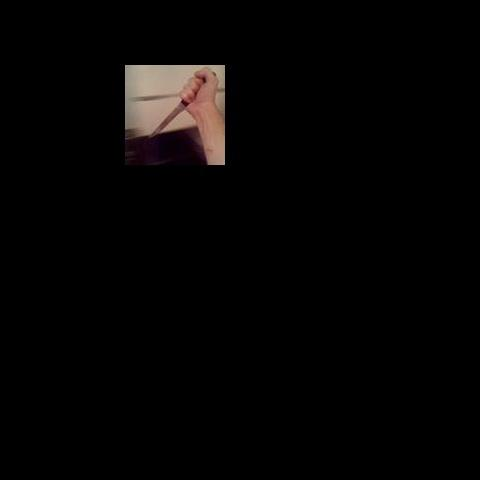knife: (149, 70, 217, 138)
